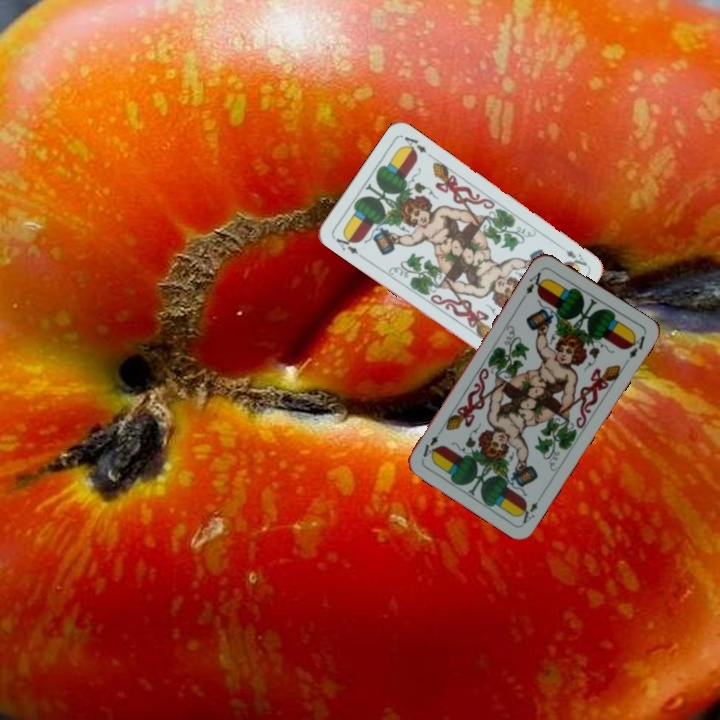EA: (515, 490, 545, 526), (554, 242, 590, 271), (332, 230, 365, 261), (522, 265, 549, 297)
